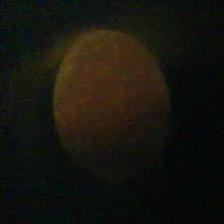fertile: (48, 26, 176, 179)
